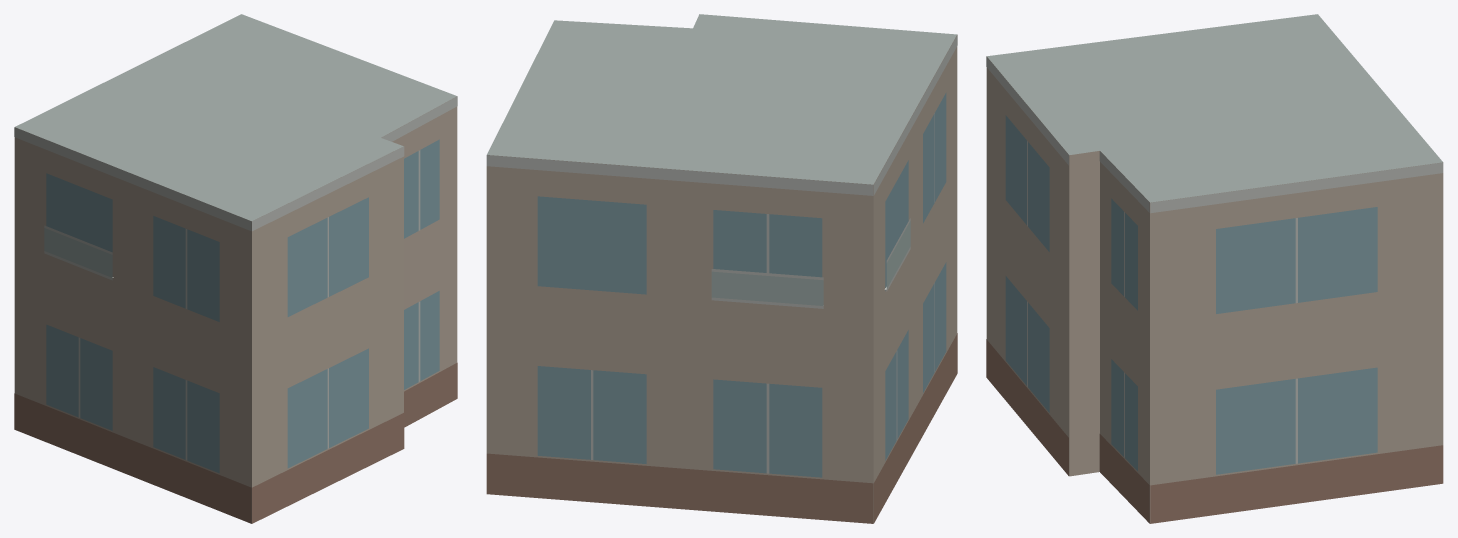
File: survey-upis-32597036.glb
3 views of the same model, side by side, from view 1: azimuth 30°, elevation 25°; view 2: azimuth 150°, elevation 25°; view 3: azimuth 270°, elevation 25° (orthographic). The views are drawn at different scales.
Visible parts, largest first — view 1: survey-upis-32597036.tmp; view 2: survey-upis-32597036.tmp; view 3: survey-upis-32597036.tmp.
Part boxes in pixels (bbox=[...]): survey-upis-32597036.tmp: bbox=[14, 14, 457, 523]; survey-upis-32597036.tmp: bbox=[486, 14, 957, 523]; survey-upis-32597036.tmp: bbox=[986, 14, 1443, 523].
Size of the model in its own units: 9.2 by 7.3 by 9.42.
